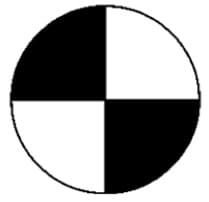pattern: (10, 5, 202, 194)
